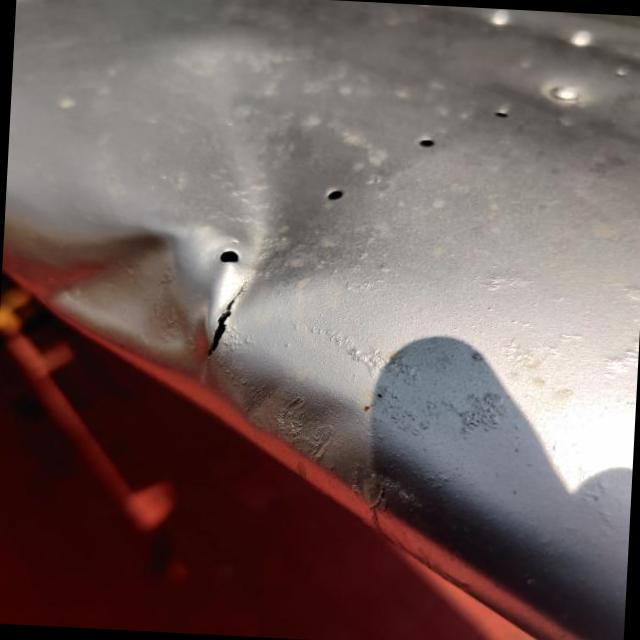Crack: (205, 280, 245, 383)
Dent: (175, 61, 388, 324), (3, 213, 207, 377)
